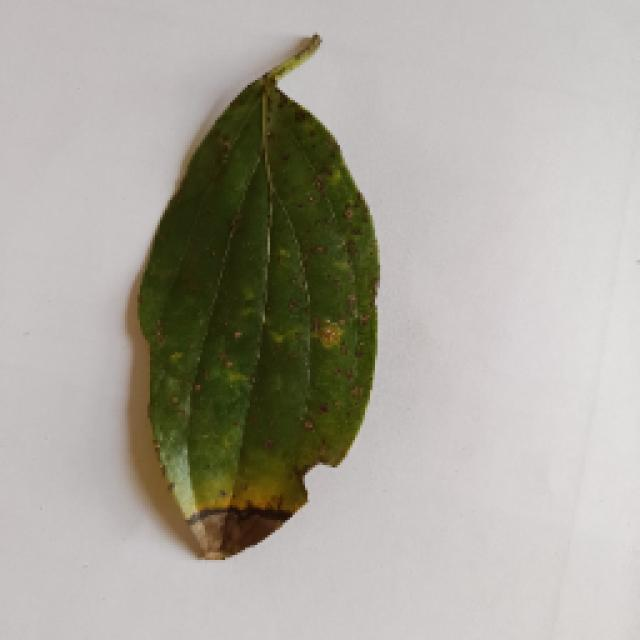footrot: (132, 38, 380, 560)
